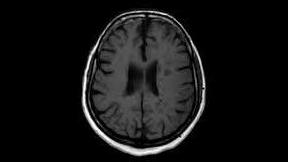Normal_Brain: (75, 1, 255, 162)
